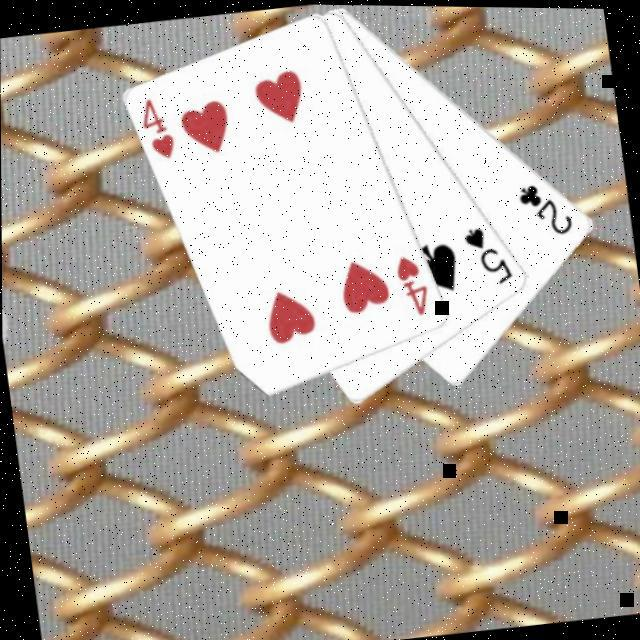2C: (512, 175, 576, 242)
4H: (134, 92, 178, 166), (390, 250, 434, 320)
5S: (458, 218, 516, 291)
